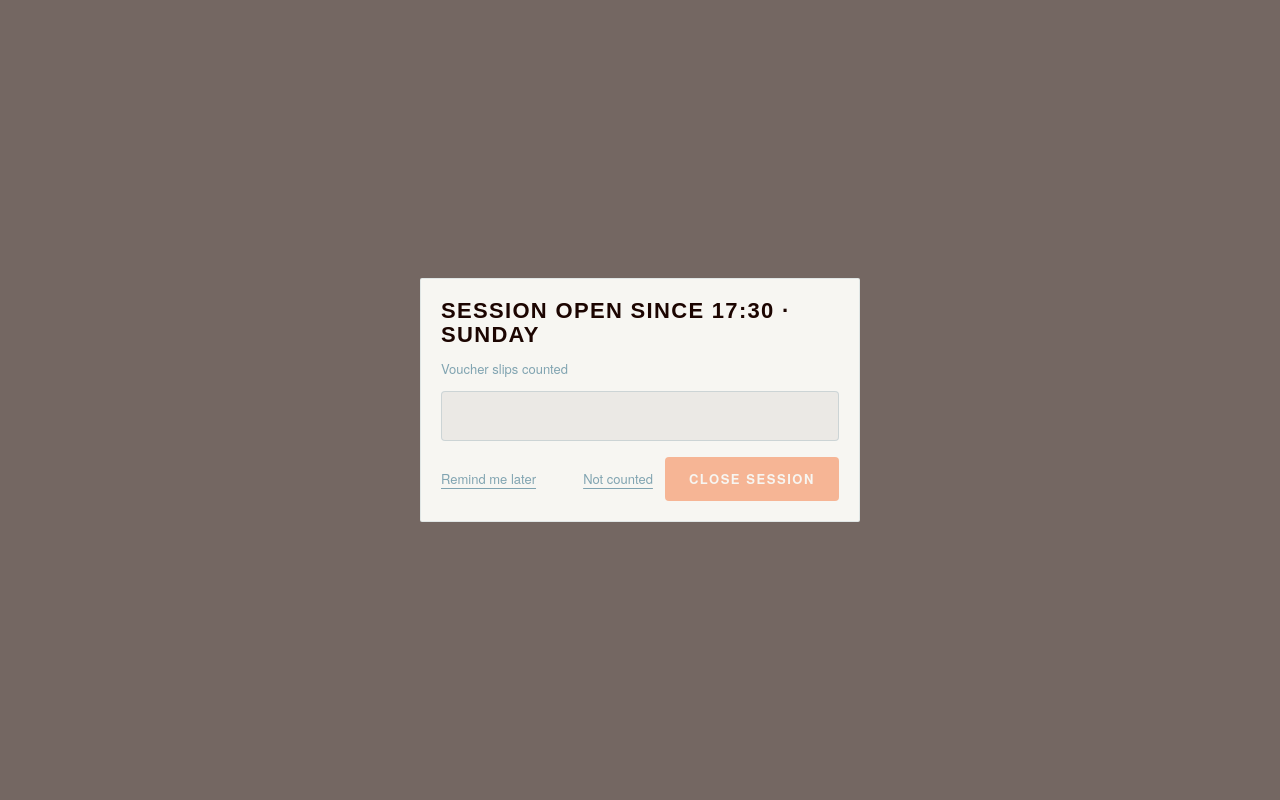
Scenario: closeSession — voucher slip count › 'Not counted' closes with no count — never 0 (REQ-157)
The width and height of the screenshot is (1280, 800).
Expected: the field labelled "Voucher slips counted" is shown, [441,391,839,441]
Click the button "Not counted" at (618, 479), box [583,457,653,501]
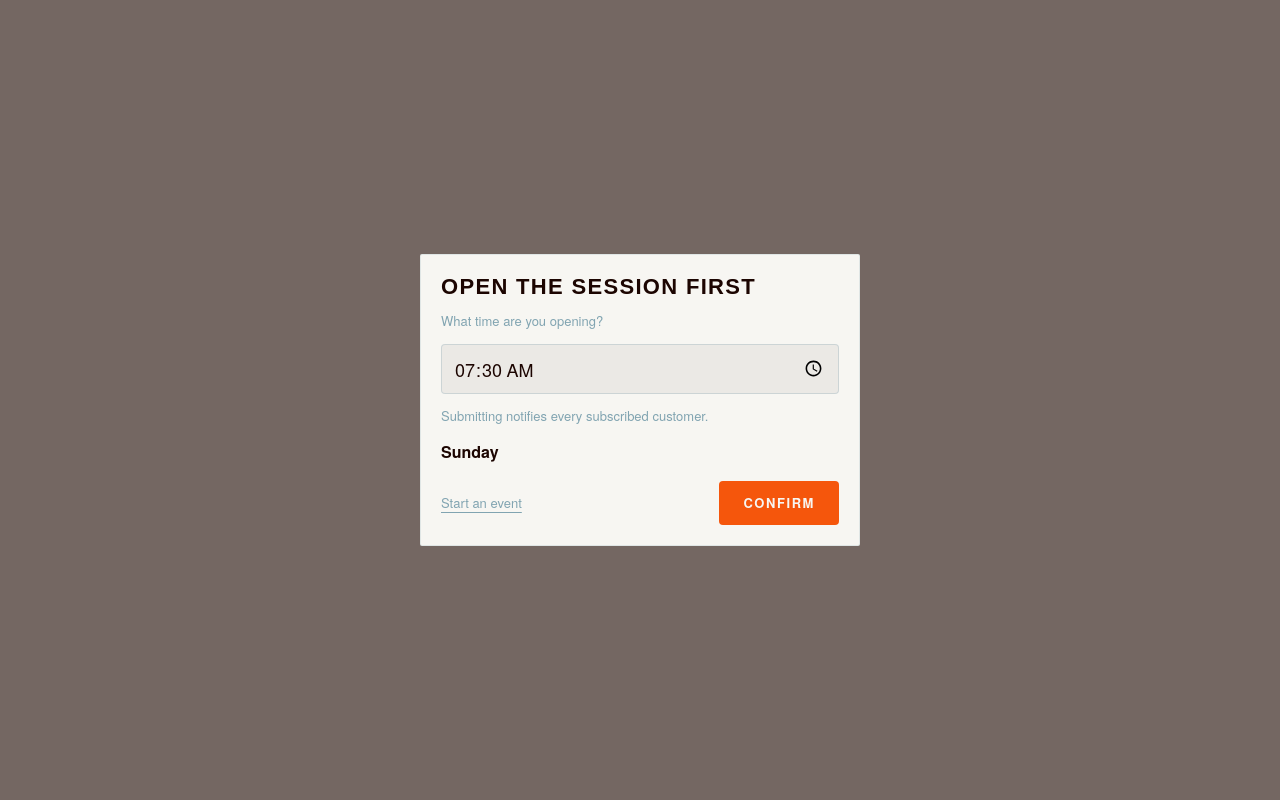
Expected: the heading "Open the session first" is shown, [441,274,756,299]
